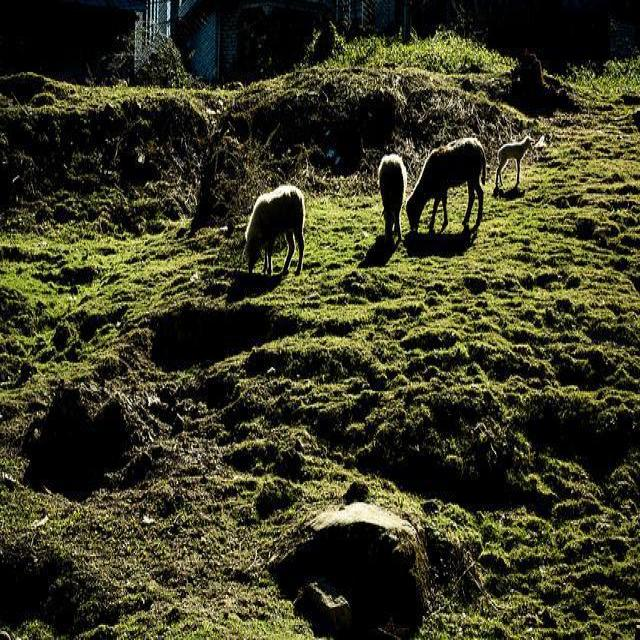Sheep: (405, 135, 486, 234), (244, 186, 306, 277), (496, 135, 536, 189)
